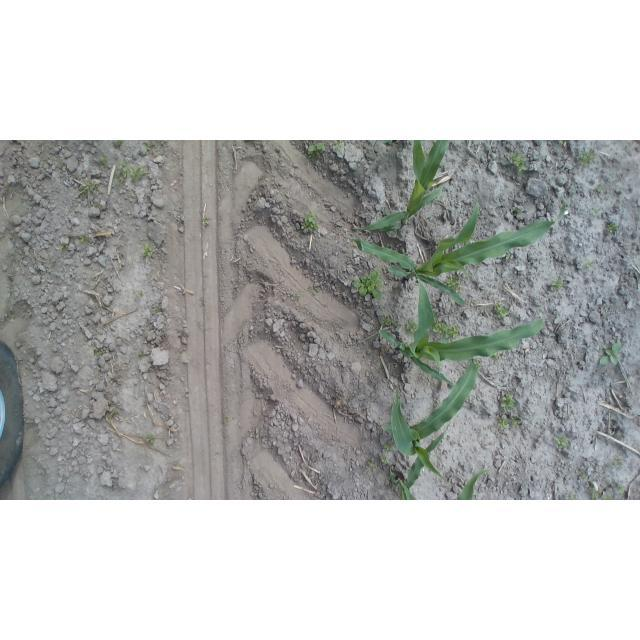Maize: (349, 201, 567, 308), (378, 264, 545, 390), (381, 364, 477, 480), (350, 140, 450, 232), (388, 464, 493, 500)
Weeds: (351, 270, 384, 301), (114, 160, 150, 184), (433, 320, 460, 339), (599, 343, 621, 366), (304, 141, 329, 159), (300, 211, 320, 233), (78, 179, 101, 195), (510, 152, 529, 171), (500, 392, 516, 413), (493, 300, 511, 318), (444, 276, 463, 292), (499, 416, 522, 428), (406, 316, 419, 337), (579, 151, 595, 166), (95, 154, 111, 168), (141, 243, 157, 257), (553, 435, 569, 449), (379, 315, 398, 325), (588, 487, 601, 500), (552, 277, 564, 291), (44, 164, 57, 176), (608, 223, 621, 234), (307, 283, 318, 295), (91, 202, 103, 213), (612, 457, 624, 468), (617, 483, 626, 495), (473, 358, 481, 371), (494, 352, 502, 365), (331, 140, 344, 148), (79, 235, 89, 245), (142, 141, 151, 152), (60, 241, 69, 252), (380, 454, 389, 465), (201, 215, 209, 227), (564, 492, 576, 500), (384, 443, 396, 451), (580, 471, 589, 481), (147, 435, 157, 444), (504, 253, 513, 262), (291, 292, 300, 301), (604, 492, 614, 500), (594, 183, 603, 191), (586, 260, 595, 268), (368, 460, 377, 468), (93, 348, 102, 356), (136, 289, 145, 297), (106, 412, 114, 421), (593, 208, 601, 216), (513, 207, 520, 216), (536, 308, 545, 315), (153, 307, 162, 314), (136, 350, 144, 357), (112, 140, 121, 146), (484, 467, 491, 473), (60, 160, 65, 168), (72, 206, 79, 211), (216, 453, 221, 460), (552, 376, 557, 381), (224, 420, 229, 425), (8, 304, 13, 309), (558, 140, 564, 144)
